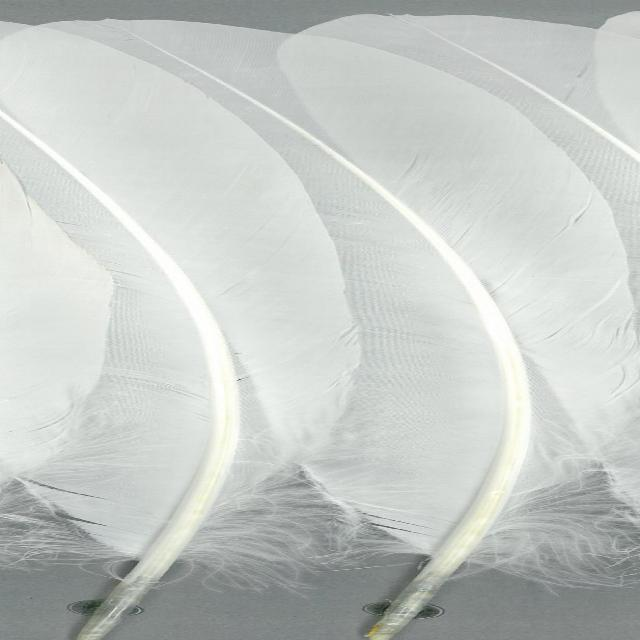feather: (0, 19, 640, 640), (0, 18, 327, 640)
